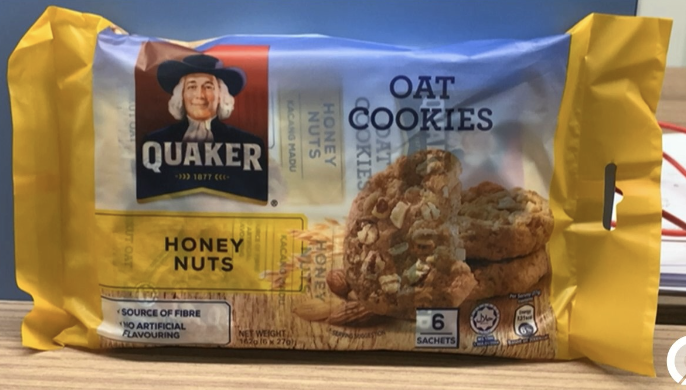cookies_100g-199g: (105, 50, 550, 351)
